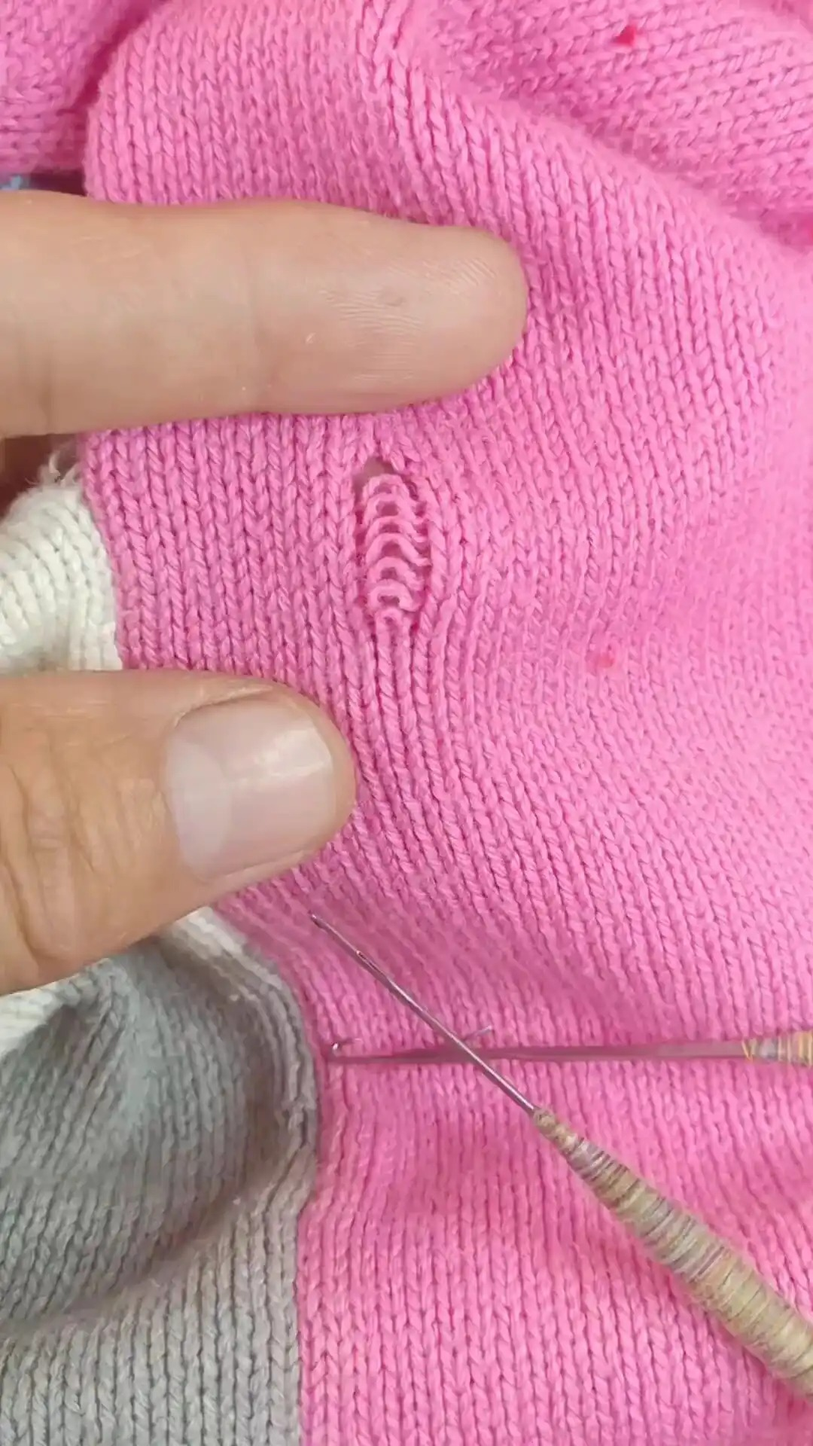missing_stitch_2: (339, 450, 466, 629)
